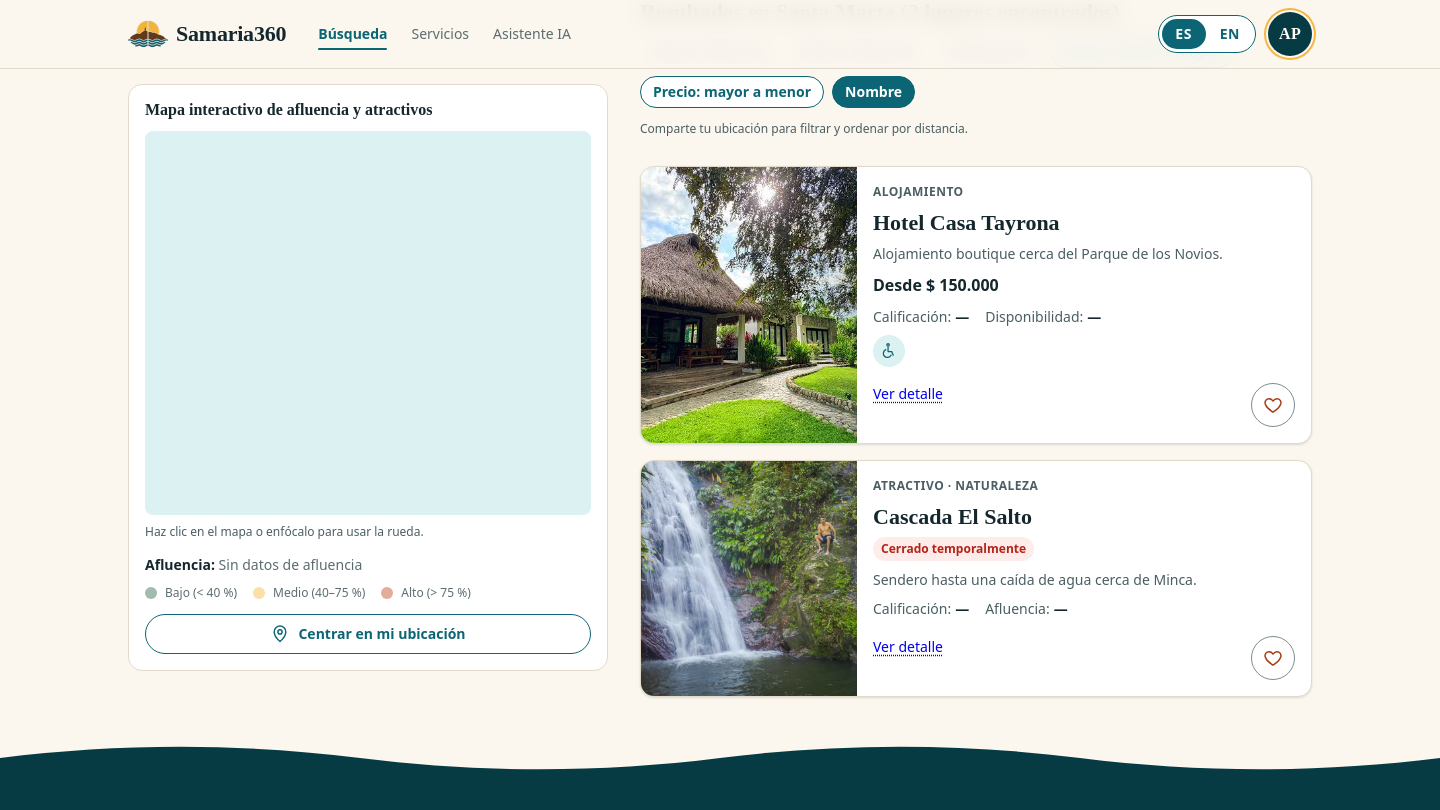
Scenario: Corazón de favoritos en WF-05 y WF-06 (RF54, DEC-93) › 409 LIMITE_FAVORITOS avisa y el corazón vuelve a su estado
This screenshot has width=1440, height=810.
(page scrolled)
Click the button named "Guardar en favoritos: Hotel Casa Tayrona": (1273, 405) [1251, 383, 1295, 427]
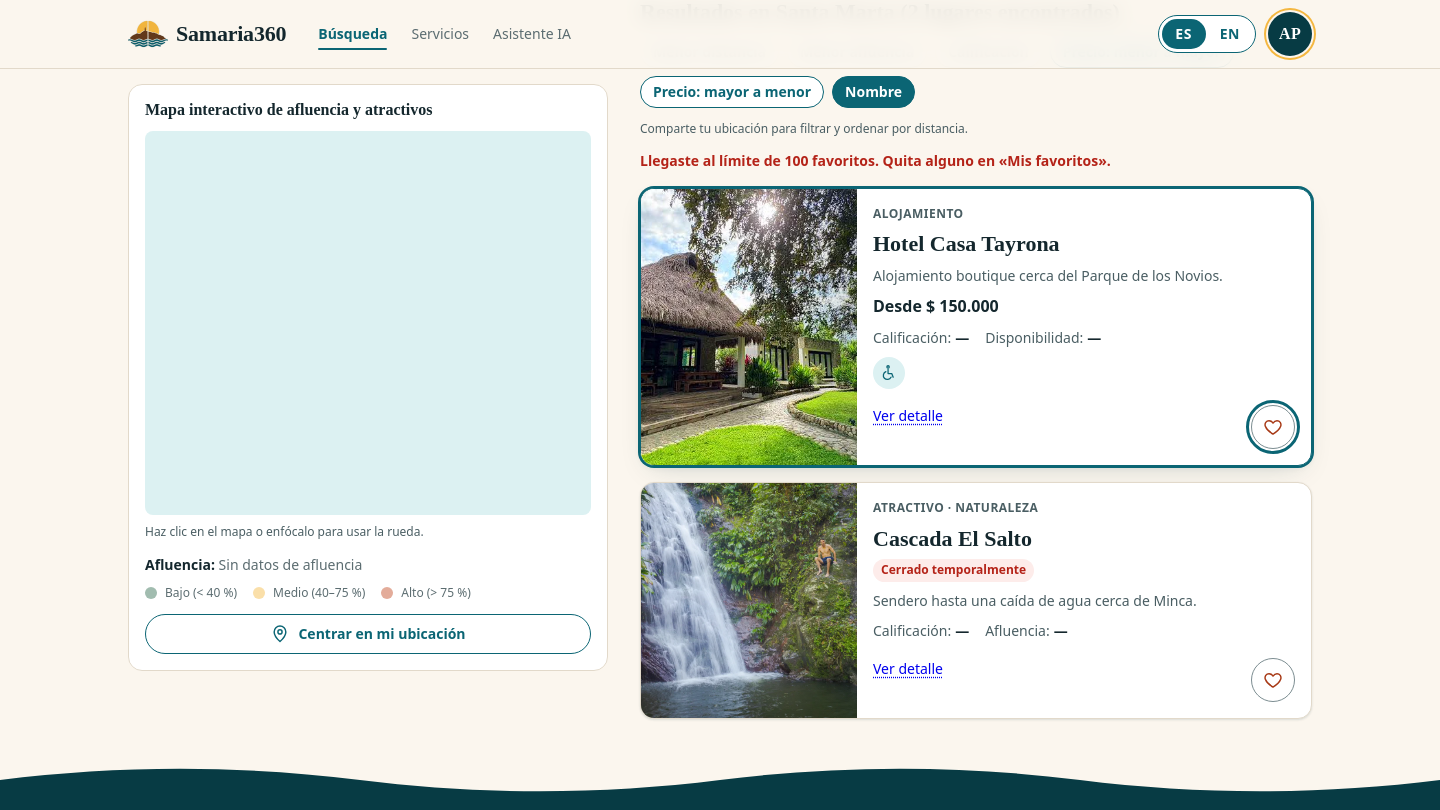
Expected: the text "Llegaste al límite de 100 favoritos. Quita alguno en «Mis favoritos»." is shown, [640, 151, 1111, 170]
